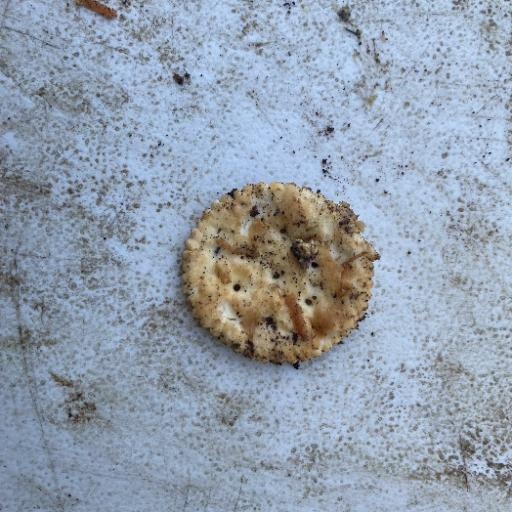Waste: (179, 180, 380, 368)
